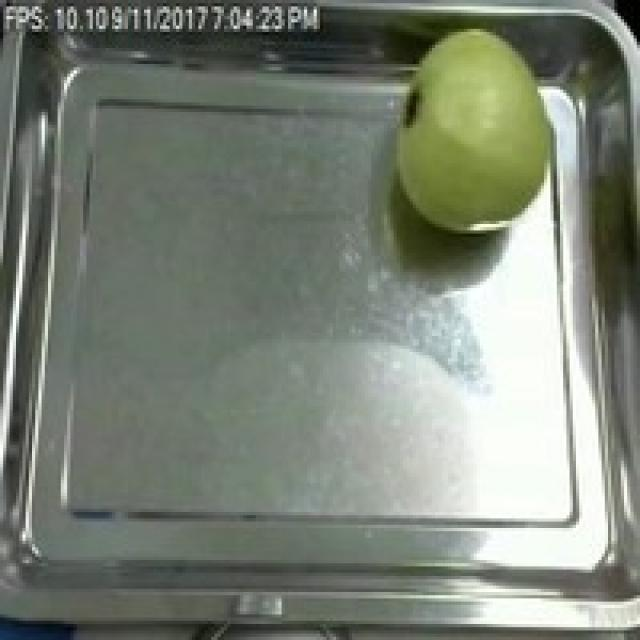Fruit: (378, 13, 579, 246)
